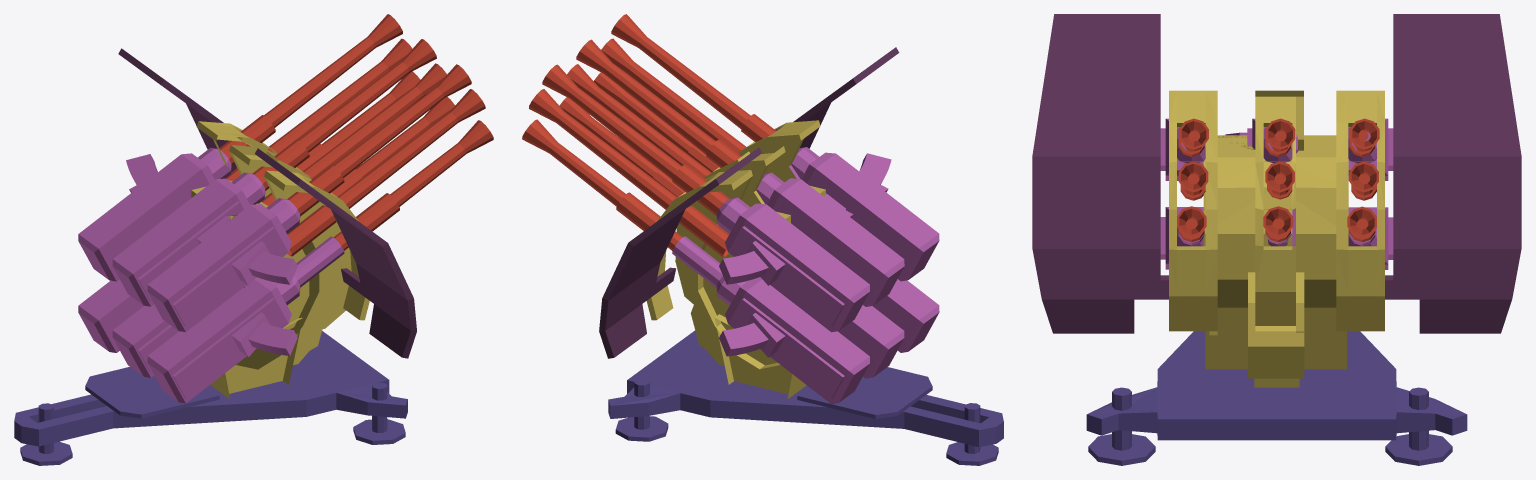
Rendered from FlakCannon_Update_5.fbx.
3 views of the same model, side by side, from view 1: azimuth 30°, elevation 25°; view 2: azimuth 150°, elevation 25°; view 3: azimuth 270°, elevation 25° (orthographic). The views are drawn at different scales.
Visible parts, largest first — view 1: Attack, Base; view 2: Attack, Base; view 3: Attack, Base.
Boxes of the visible parts, bbox=[...] form: Attack: bbox=[78, 14, 493, 403]; Base: bbox=[14, 331, 407, 465]; Attack: bbox=[522, 14, 939, 403]; Base: bbox=[608, 330, 1003, 465]; Attack: bbox=[1032, 14, 1521, 387]; Base: bbox=[1086, 331, 1467, 465].
Bounding box in the file's own units: 233 × 163 × 181.
